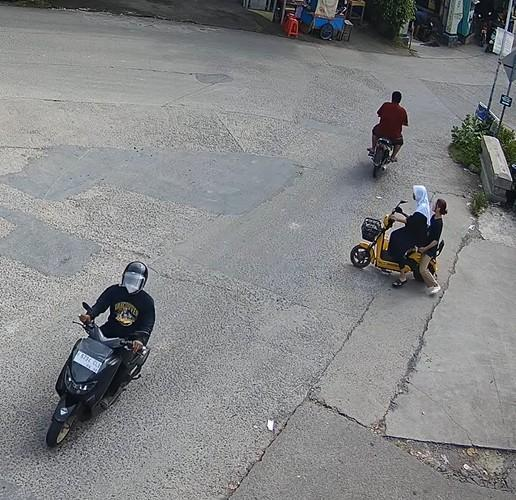Helmet: (121, 261, 147, 293)
Number Plate: (73, 351, 101, 372)
